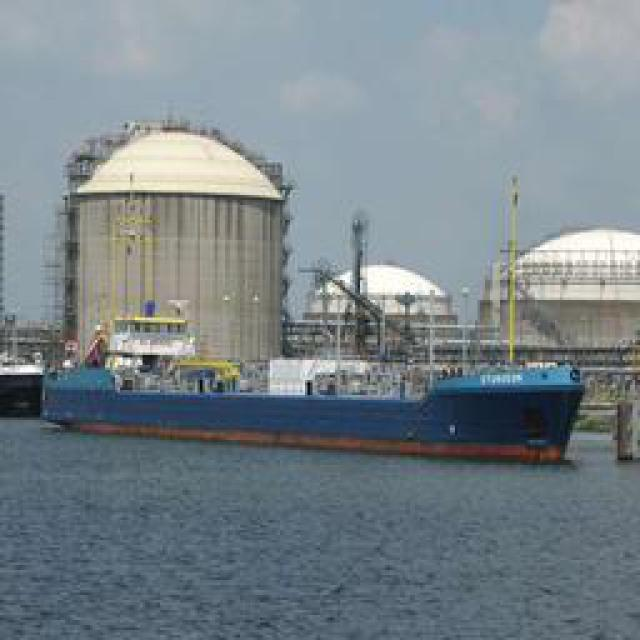Ship: (48, 350, 586, 465)
